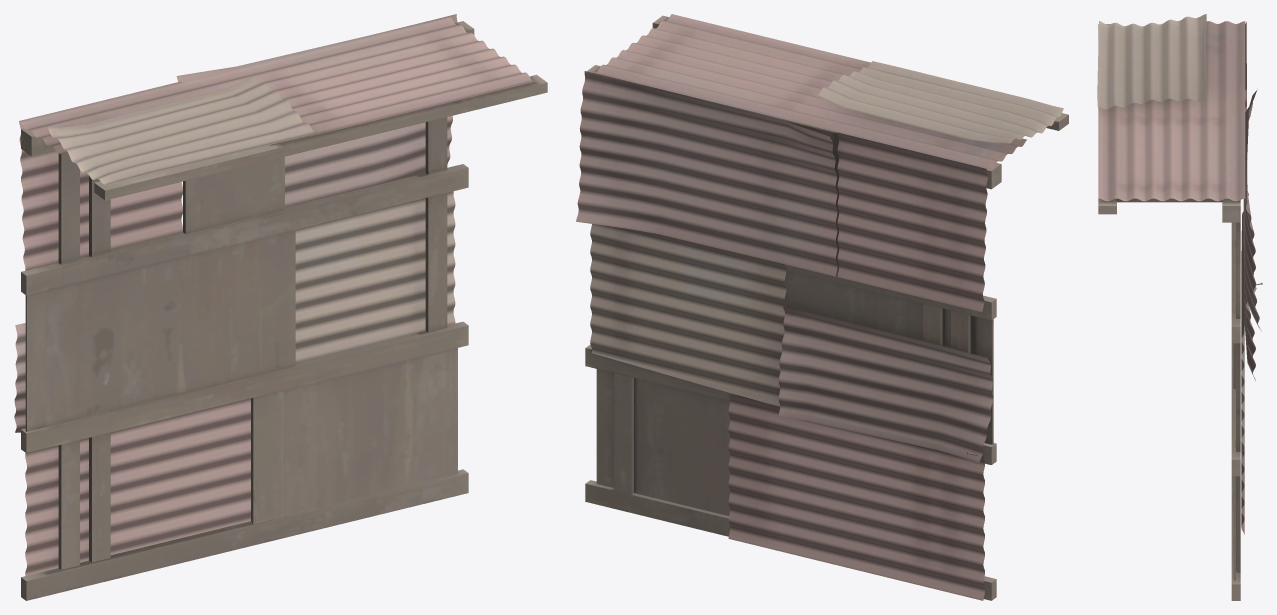
The model's file is props_2fort_sniper_fence02.glb.
The picture shows the model from 3 angles, left to right: view 1: azimuth 30°, elevation 25°; view 2: azimuth 150°, elevation 25°; view 3: azimuth 270°, elevation 25°; orthographic projection. The views are drawn at different scales.
Visible parts, largest first — view 1: models/props_2fort/sniper_fence02; view 2: models/props_2fort/sniper_fence02; view 3: models/props_2fort/sniper_fence02.
Boxes of the visible parts, bbox=[...] form: models/props_2fort/sniper_fence02: bbox=[14, 14, 547, 600]; models/props_2fort/sniper_fence02: bbox=[576, 14, 1068, 600]; models/props_2fort/sniper_fence02: bbox=[1097, 14, 1262, 600].
Bounding box in the file's own units: 189 × 196 × 72.16.
Materials: 1 (1 with a texture image).
